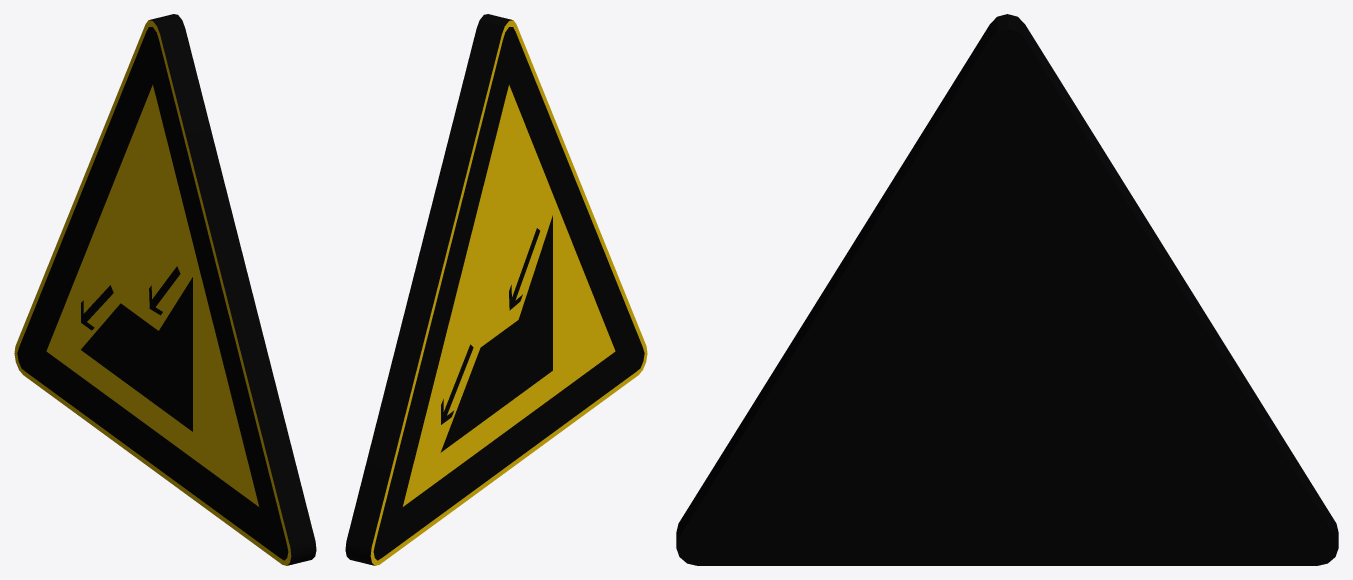
File: Continuous_DownSlopes.fbx
3 views of the same model, side by side, from view 1: azimuth 30°, elevation 25°; view 2: azimuth 150°, elevation 25°; view 3: azimuth 270°, elevation 25° (orthographic). The views are drawn at different scales.
Visible parts, largest first — view 1: Continuous_DownSlopes; view 2: Continuous_DownSlopes; view 3: Continuous_DownSlopes.
Boxes of the visible parts, bbox=[...] form: Continuous_DownSlopes: bbox=[14, 14, 316, 565]; Continuous_DownSlopes: bbox=[345, 14, 647, 565]; Continuous_DownSlopes: bbox=[676, 14, 1338, 565].
Size of the model in its own units: 0.0643 by 1.02 by 1.14.
